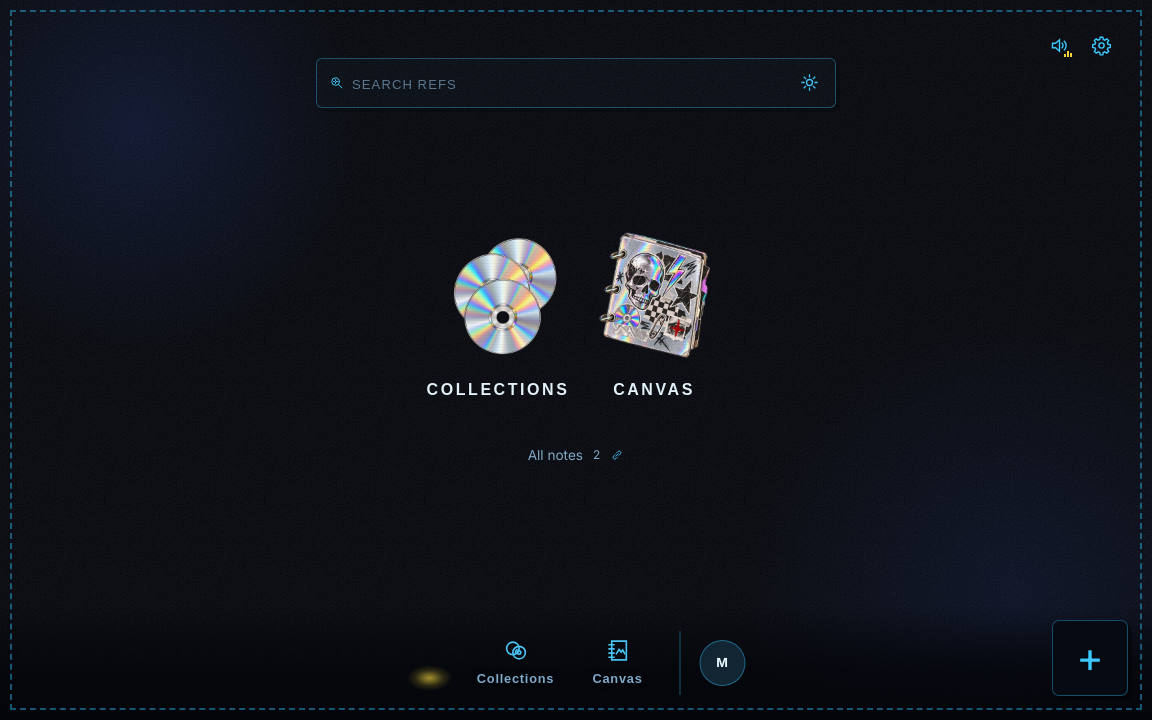
App › removes a badge relationship, restores it with Undo and permits retry after failed Undo
Click the button "All notes 2" at {"x": 576, "y": 455}, box [516,433,636,477]
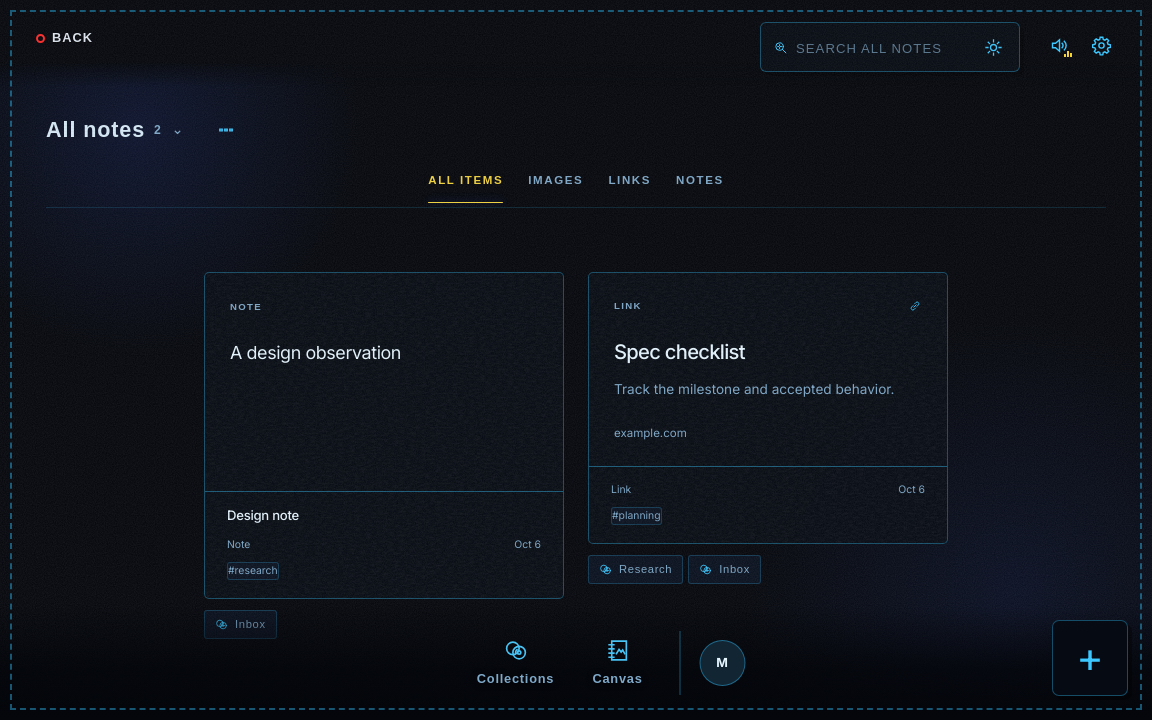
Click the button with aria-label "Collection Inbox" at {"x": 725, "y": 569}, box [688,555,761,584]
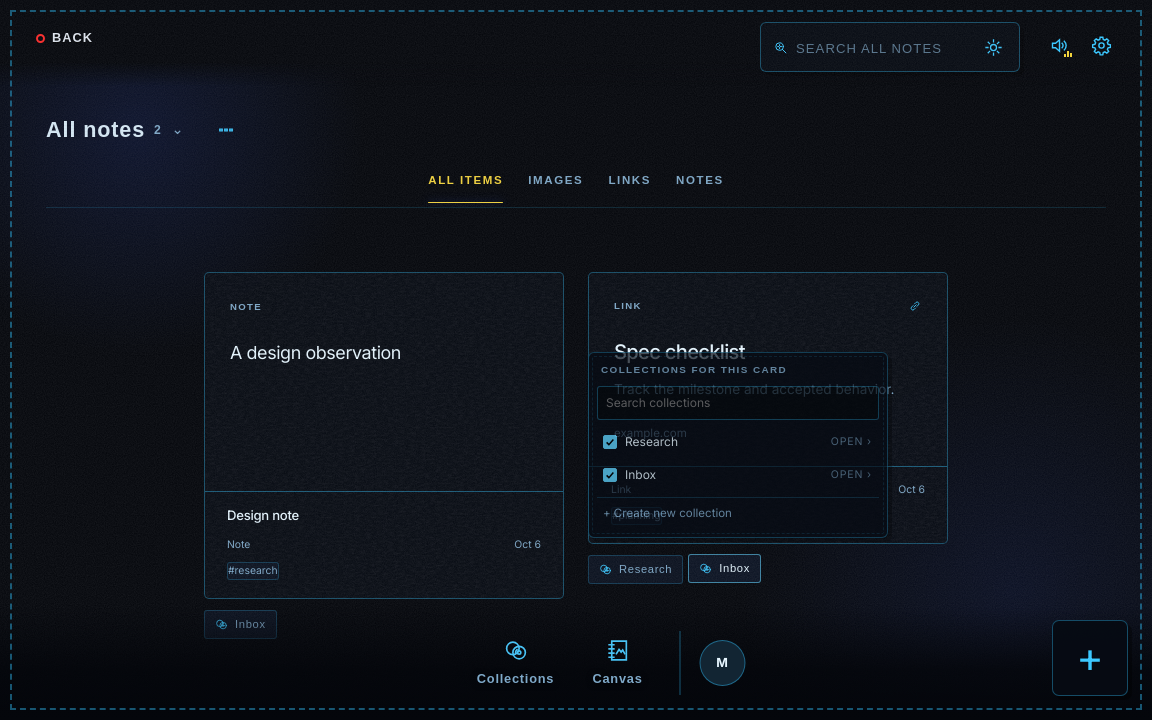
expect the 3rd checkbox labelled "Research" is checked: met, box [603,432,678,447]
Click the 3rd checkbox labelled "Inbox" at {"x": 630, "y": 472}, box [603,465,656,480]
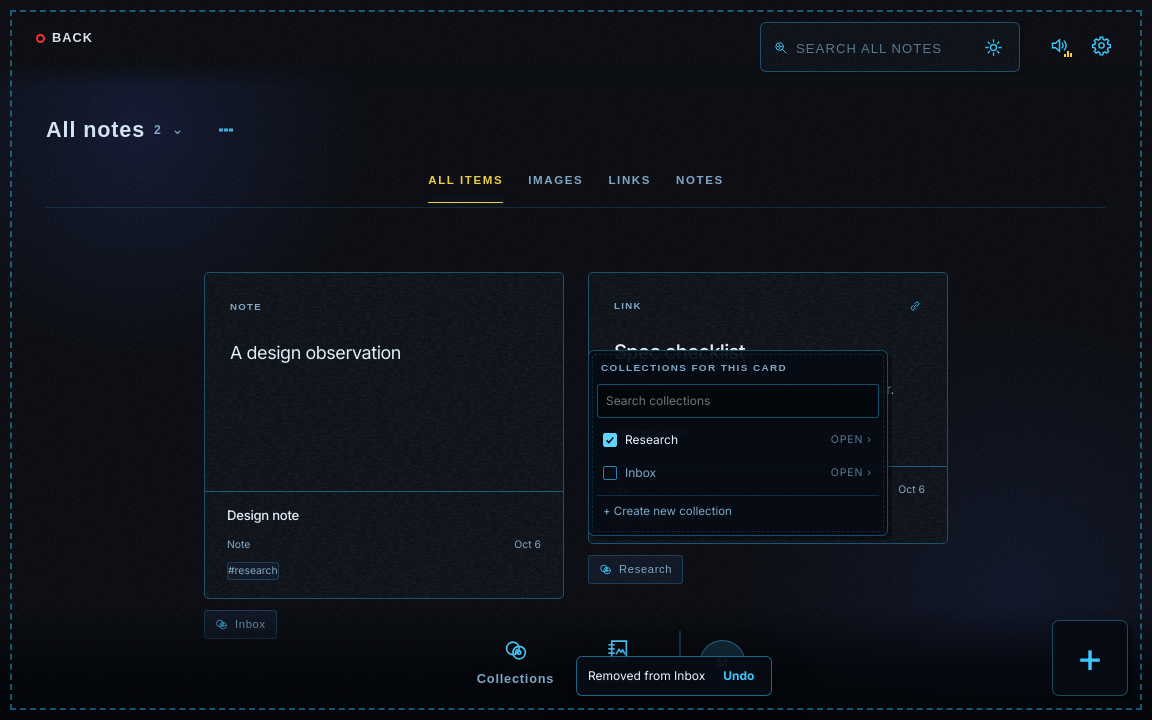
expect the 3rd checkbox labelled "Inbox" is not checked: met, box [603,465,656,480]
expect the button "Undo" is shown: met, box [717,666,760,686]
Press Escape in the dialog "Collections for this card", box [588,350,888,536]
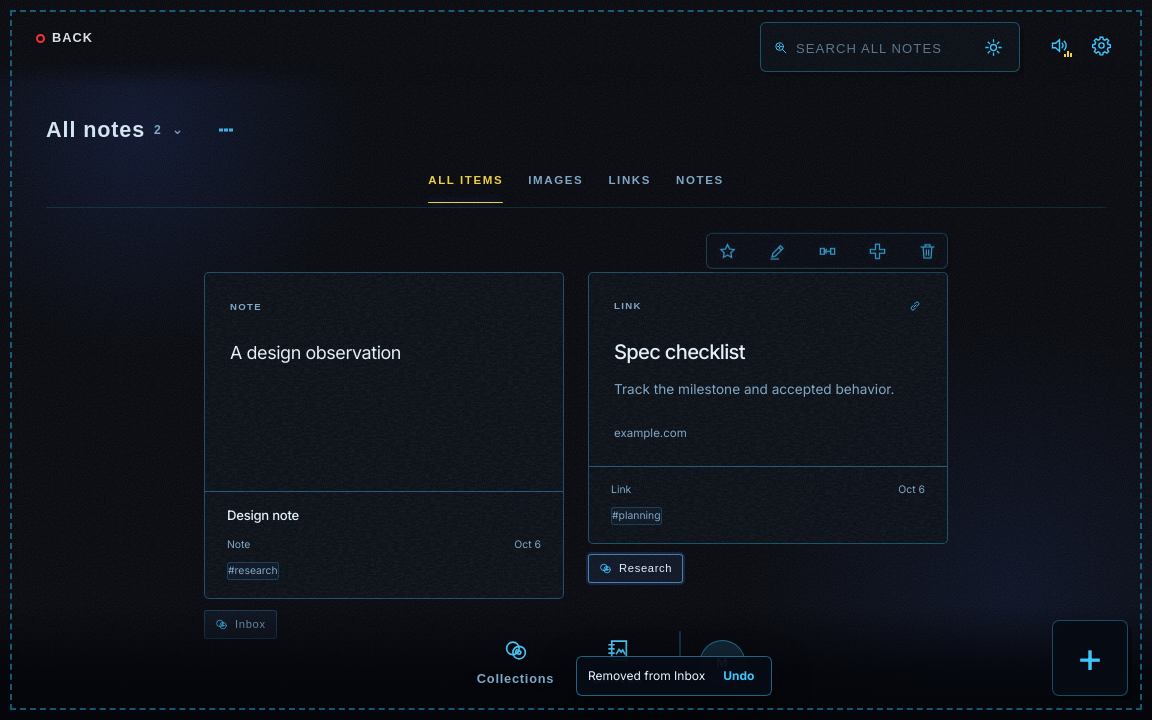
expect the button with aria-label "Collection Research" is shown: met, box [588,554,683,583]
expect the text "Collections for this card" is gone: met
Click the button "Undo" at {"x": 739, "y": 676}, box [717,666,760,686]
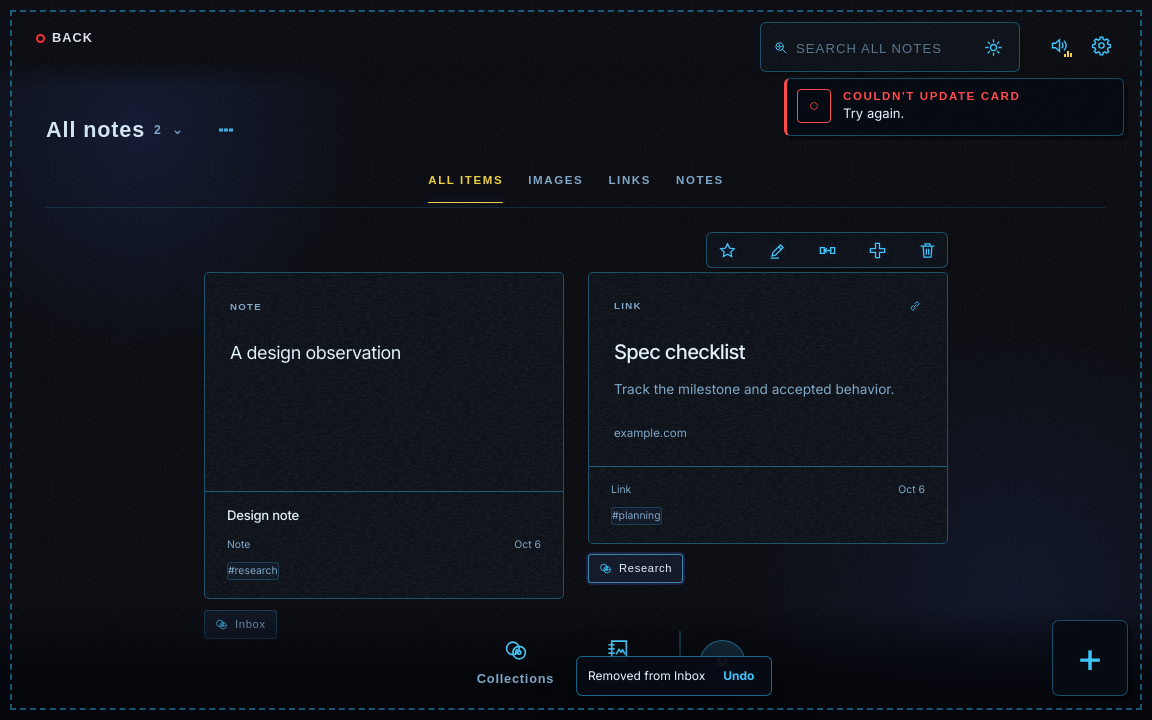
expect the button "Undo" is enabled: met
Click the button "Undo" at {"x": 739, "y": 676}, box [717,666,760,686]
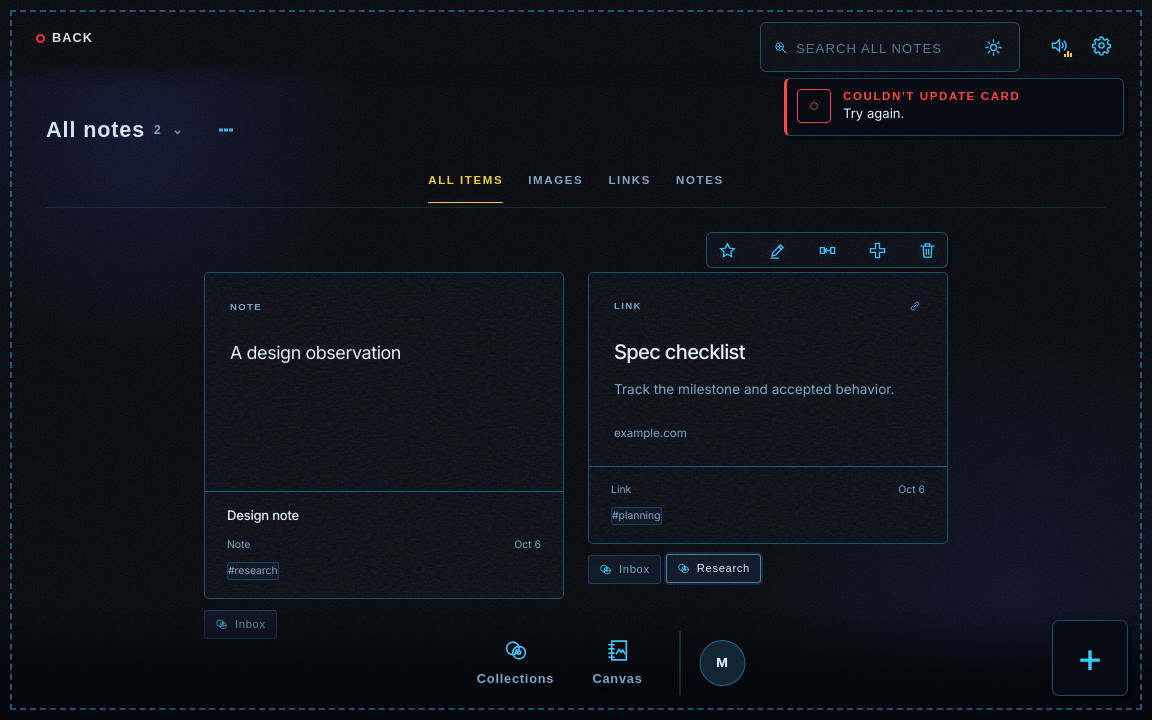
expect the button with aria-label "Collection Inbox" is shown: met, box [588,555,661,584]
expect the button "Undo" is gone: met
